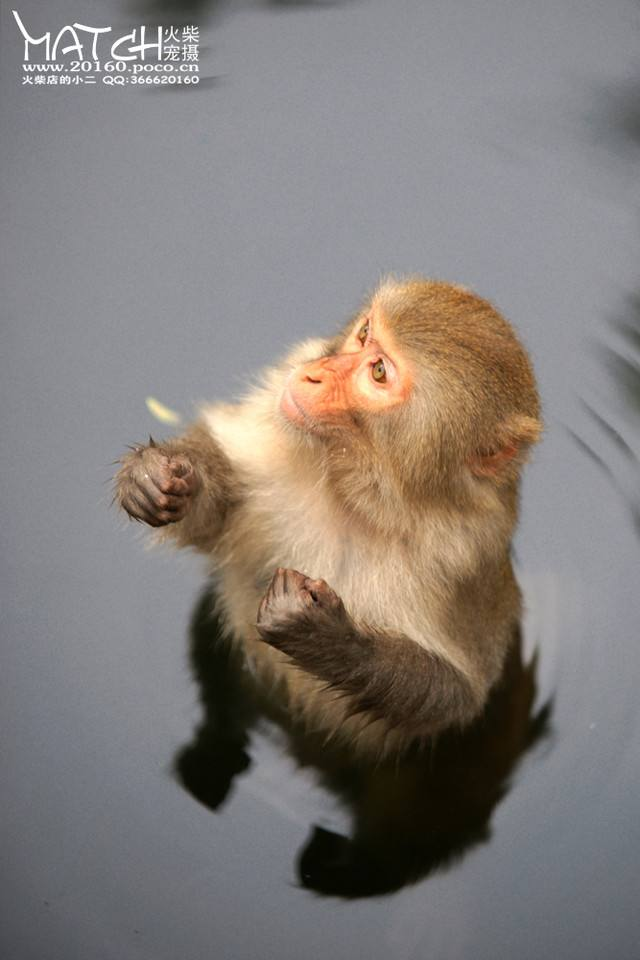monkey: (73, 211, 565, 785)
